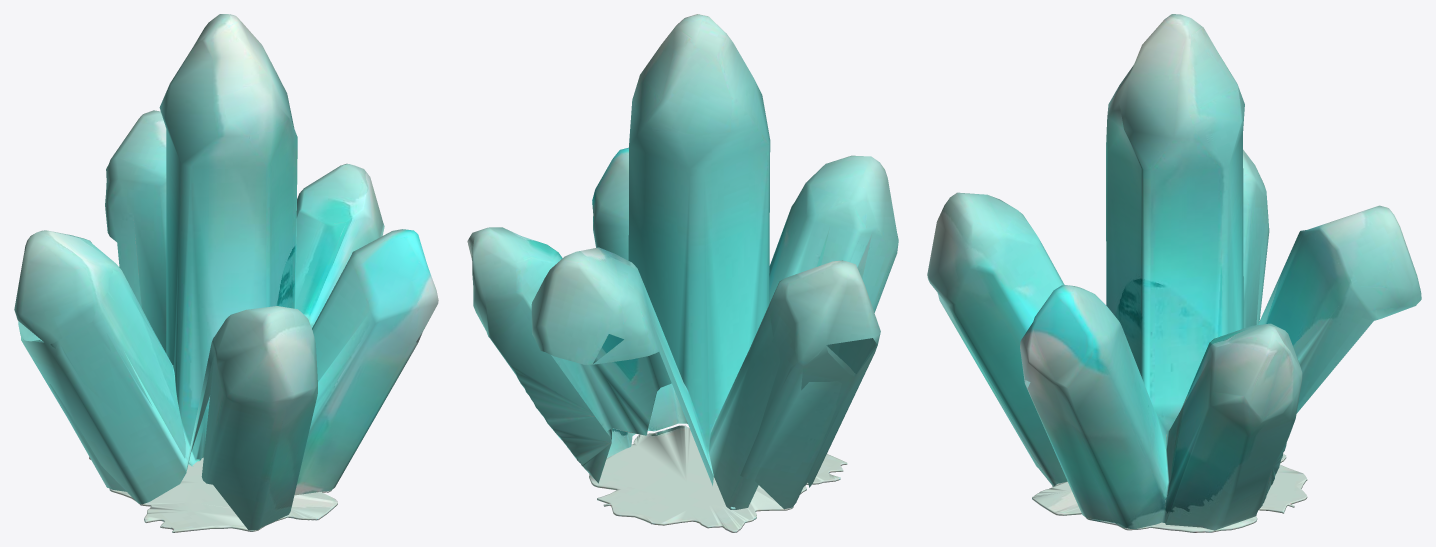
The model's file is cristal-jeu-G4DRYLML.glb.
The picture shows the model from 3 angles, left to right: view 1: azimuth 30°, elevation 25°; view 2: azimuth 150°, elevation 25°; view 3: azimuth 270°, elevation 25°; orthographic projection. The views are drawn at different scales.
Parts seen in each view (by area): view 1: cristal; view 2: cristal; view 3: cristal.
Part boxes in pixels (x1,y1,x2,y2): cristal: (14, 14, 438, 532); cristal: (467, 14, 898, 532); cristal: (927, 14, 1421, 532).
Bounding box in the file's own units: 1.64 × 1.86 × 1.77.
1 material, 1 textured.
